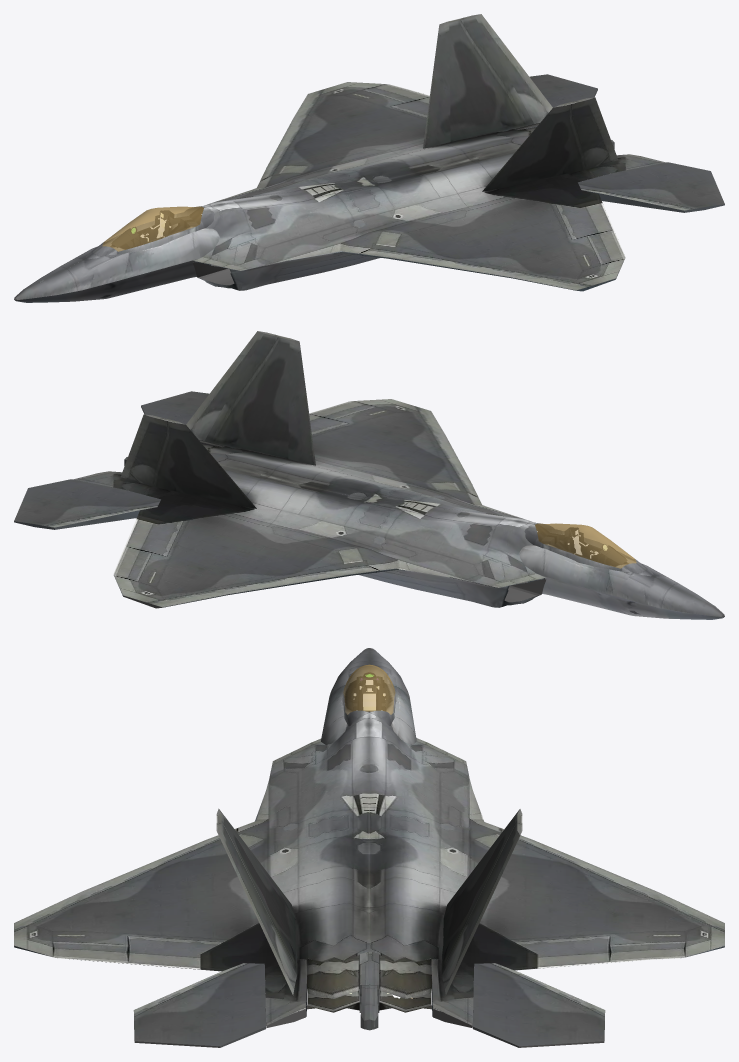
The picture shows the model from 3 angles, top to bottom: view 1: azimuth 30°, elevation 25°; view 2: azimuth 150°, elevation 25°; view 3: azimuth 270°, elevation 25°; orthographic projection. The views are drawn at different scales.
Visible parts, largest first — view 1: f22_2; view 2: f22_2; view 3: f22_2.
Part boxes in pixels (x1,y1,x2,y2): f22_2: [14, 14, 724, 302]; f22_2: [14, 331, 724, 619]; f22_2: [14, 648, 724, 1047].
Bounding box in the file's own units: 12.11 × 2.59 × 8.79.
Materials: 18 (7 with a texture image).
